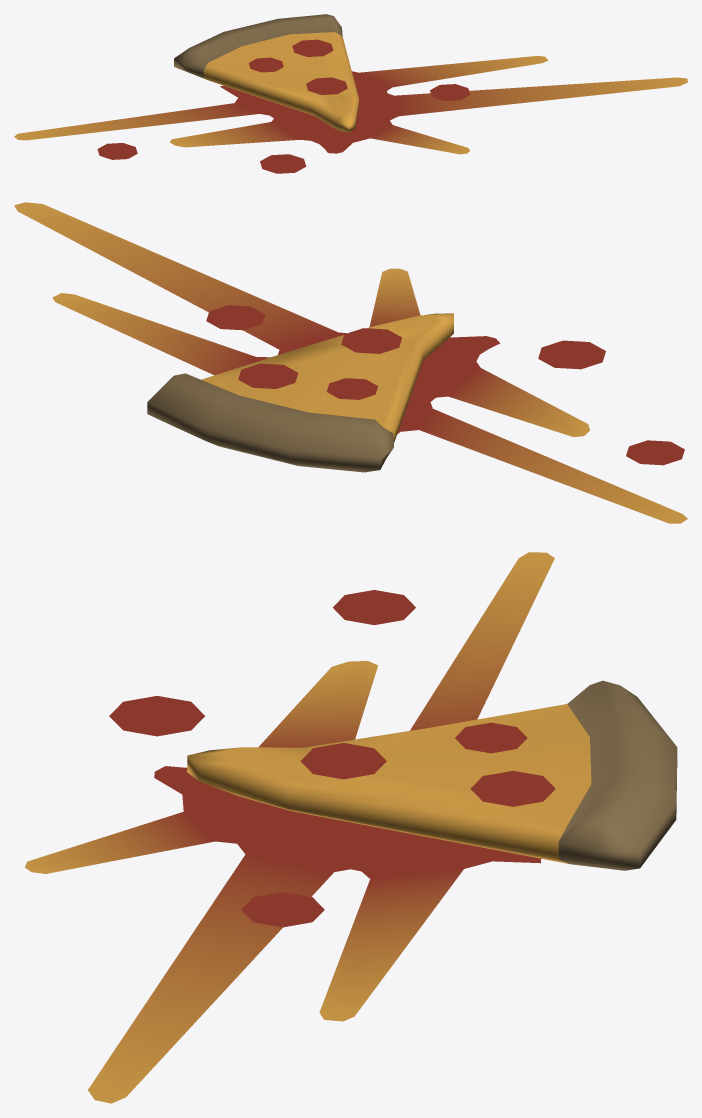
The model's file is pizza_slice_ground.gltf.
3 views of the same model, one above another, from view 1: azimuth 30°, elevation 25°; view 2: azimuth 150°, elevation 25°; view 3: azimuth 270°, elevation 25° (orthographic). The views are drawn at different scales.
Visible parts, largest first — view 1: Plane, Cylinder.001; view 2: Plane, Cylinder.001; view 3: Plane, Cylinder.001.
Boxes of the visible parts, x1,y1,x2,y2 form: Plane: (14,56,687,173); Cylinder.001: (174,14,358,132); Plane: (14,202,687,523); Cylinder.001: (147,313,453,472); Plane: (25,552,554,1103); Cylinder.001: (187,680,677,870).
Bounding box in the file's own units: 1.07 × 0.0558 × 0.5348.
